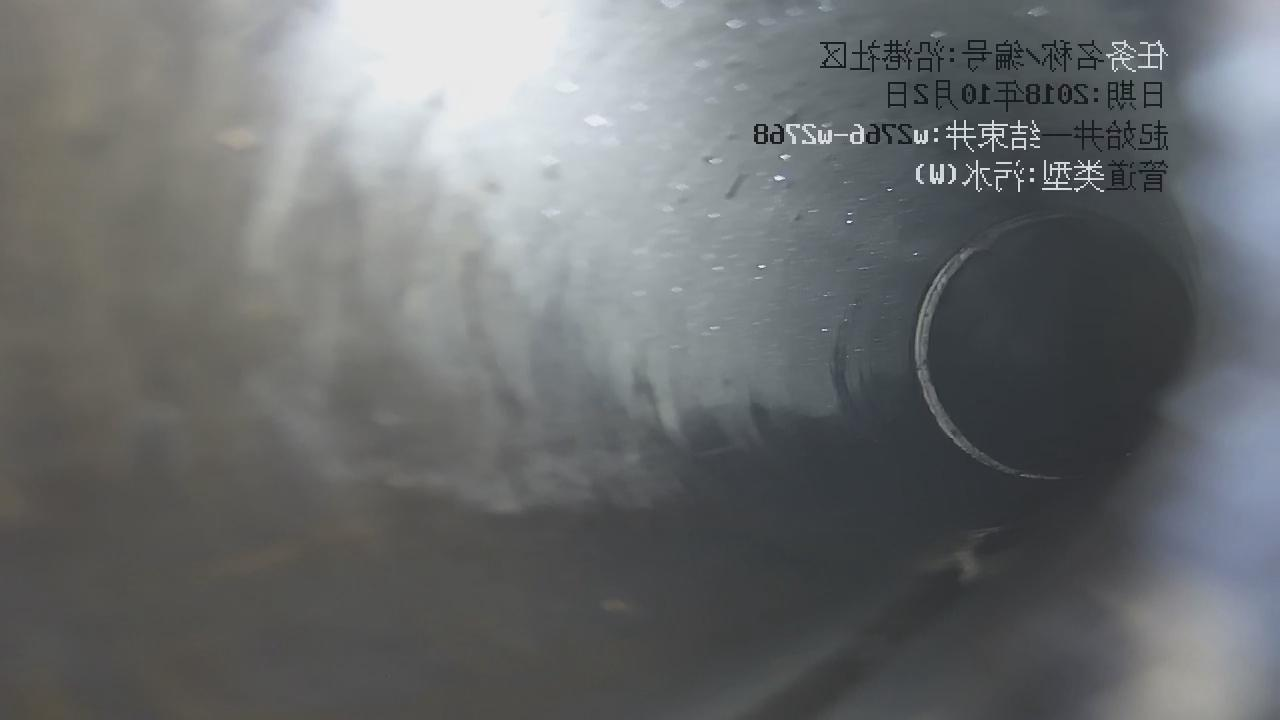CKTJ: (914, 213, 1083, 479)
